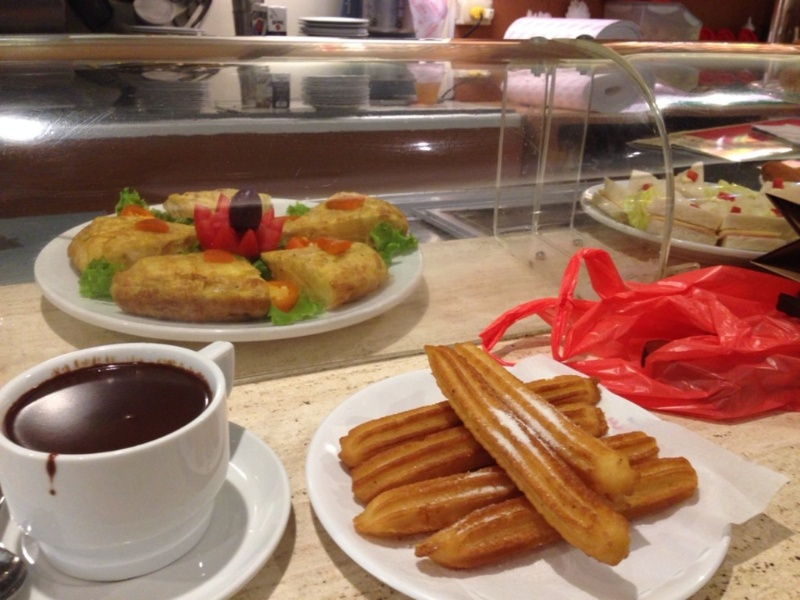cup: (2, 334, 239, 572)
